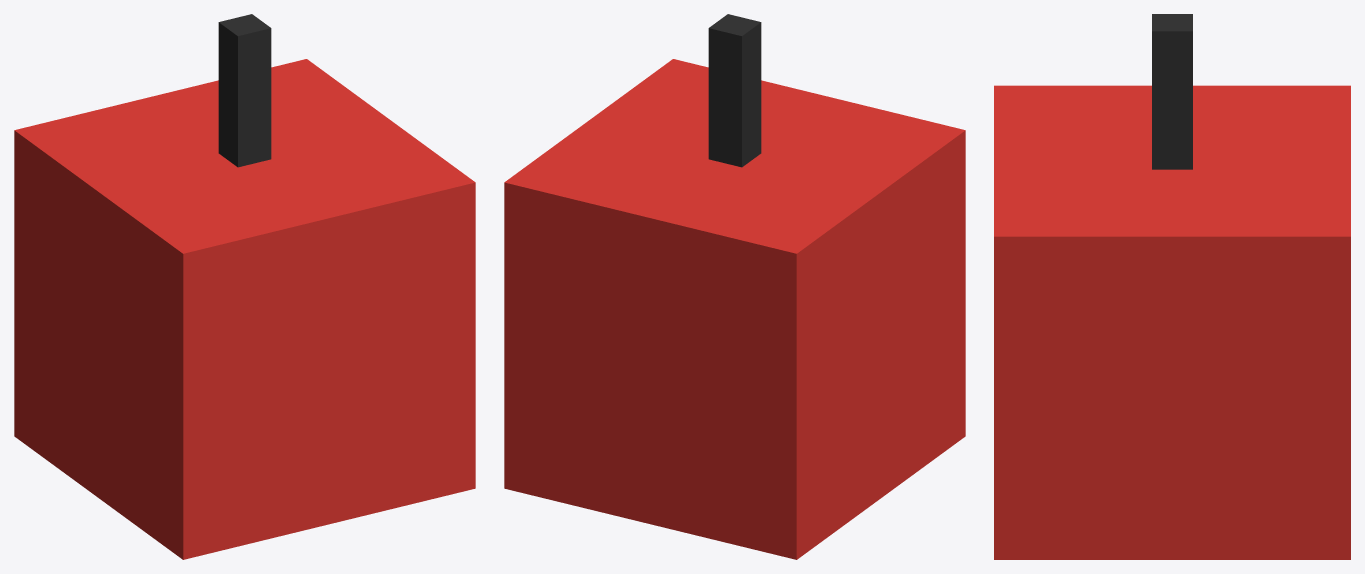
Rendered from Mine.glb.
The picture shows the model from 3 angles, left to right: view 1: azimuth 30°, elevation 25°; view 2: azimuth 150°, elevation 25°; view 3: azimuth 270°, elevation 25°; orthographic projection. The views are drawn at different scales.
Parts seen in each view (by area): view 1: Mine_Mesh, Mine_Fuze; view 2: Mine_Mesh, Mine_Fuze; view 3: Mine_Mesh, Mine_Fuze.
Part boxes in pixels (<box>): Mine_Mesh: <box>14,59,475,559</box>; Mine_Fuze: <box>218,14,271,167</box>; Mine_Mesh: <box>504,59,965,559</box>; Mine_Fuze: <box>708,14,761,167</box>; Mine_Mesh: <box>994,85,1350,559</box>; Mine_Fuze: <box>1152,14,1192,169</box>.
Size of the model in its own units: 0.35 by 0.5 by 0.35.
